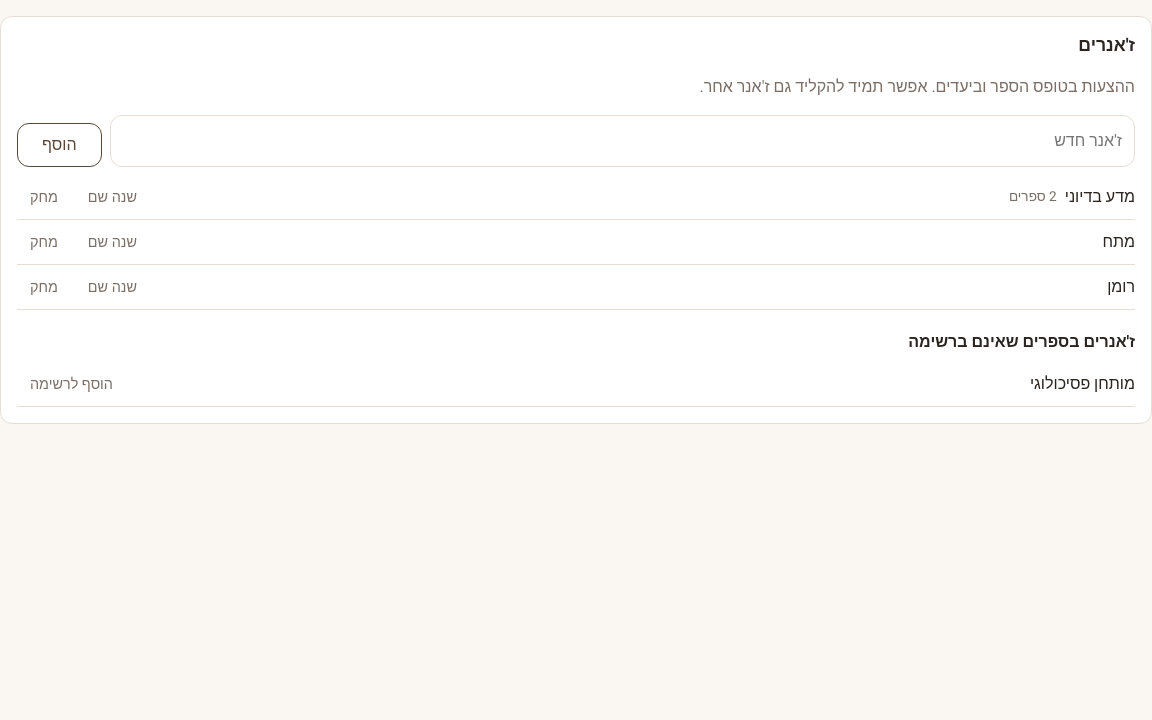
it: GenreManager — rename › renames an unused genre without asking
This screenshot has width=1152, height=720.
Click the button with aria-label "שנה שם: מתח" at {"x": 112, "y": 242}, box [75,224,150,260]
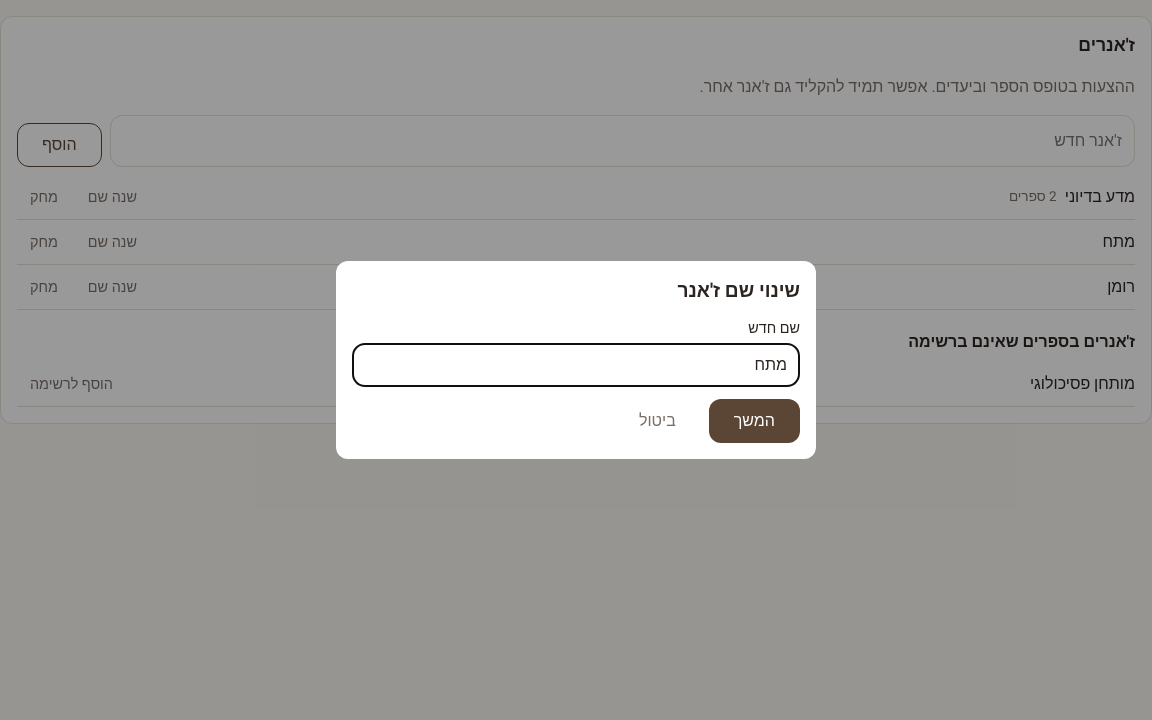
Replace the text in the field labelled "שם חדש" with "מותחן" at {"x": 576, "y": 365}, box [352,343,800,387]
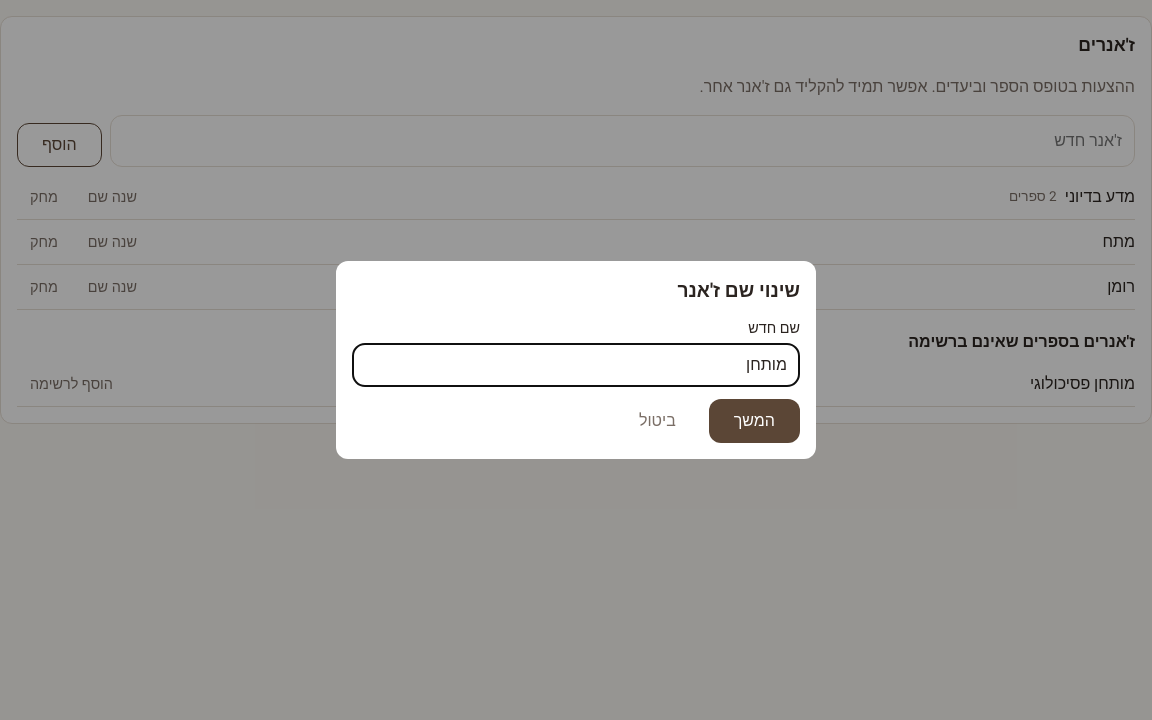
Click the button "המשך" at {"x": 754, "y": 421}, box [709,399,800,443]
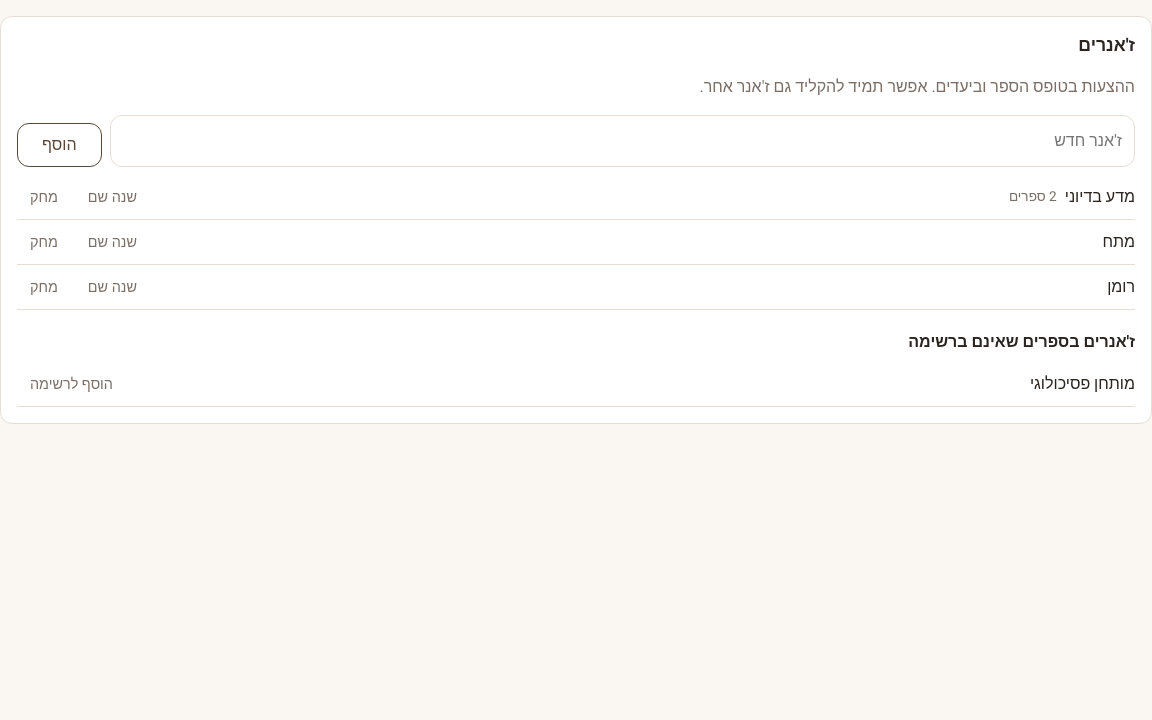
Check: the dialog is gone
